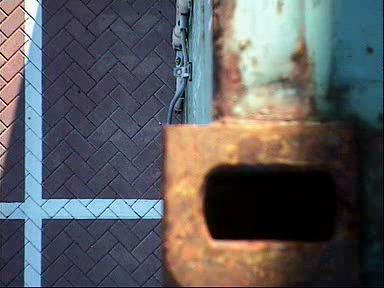groundmarker_2: (33, 176, 162, 259)
